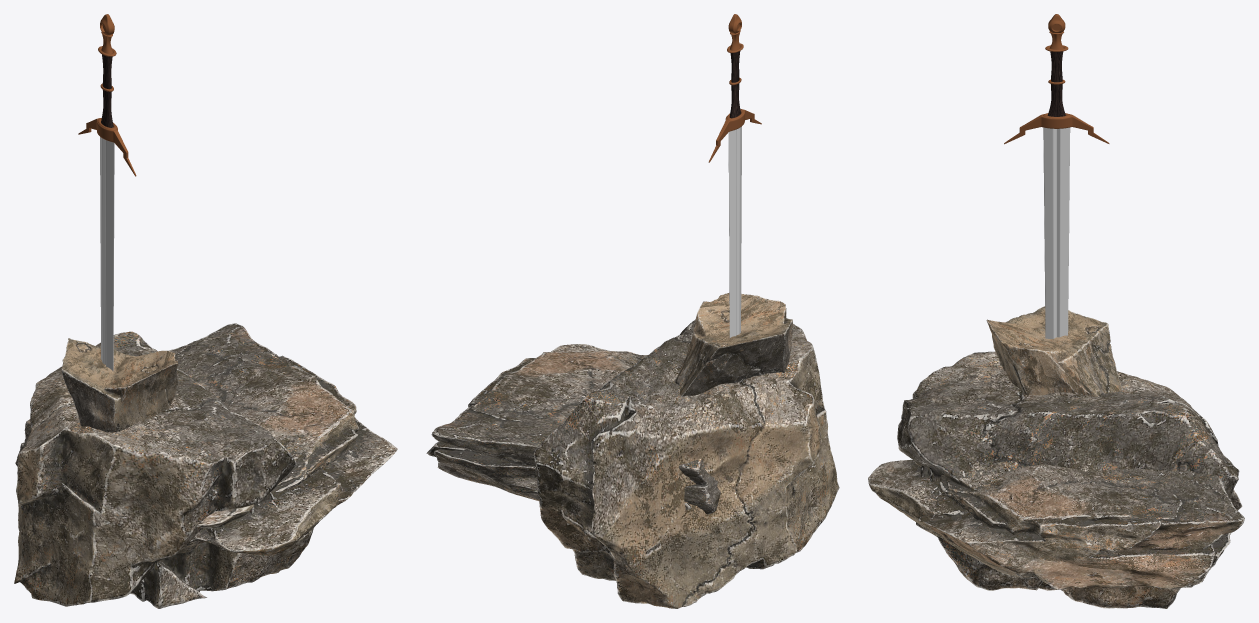
File: miekka_ilmantaustaa.glb
The picture shows the model from 3 angles, left to right: view 1: azimuth 30°, elevation 25°; view 2: azimuth 150°, elevation 25°; view 3: azimuth 270°, elevation 25°; orthographic projection. The views are drawn at different scales.
Parts seen in each view (by area): view 1: rockB, rockC, rockA, Terä, Kahva, Suoja; view 2: rockB, rockC, rockA, Terä, Kahva; view 3: rockC, rockB, rockA, Terä, Suoja, Kahva.
Boxes of the visible parts, x1,y1,x2,y2 form: rockB: (14, 331, 313, 608); rockC: (15, 323, 397, 556); rockA: (61, 338, 178, 432); Terä: (100, 137, 114, 370); Kahva: (101, 54, 113, 127); Suoja: (78, 118, 136, 176); rockB: (533, 319, 839, 608); rockC: (426, 344, 720, 514); rockA: (675, 293, 792, 396); Terä: (728, 126, 741, 337); Kahva: (729, 51, 740, 118); rockC: (868, 459, 1244, 589); rockB: (897, 351, 1242, 608); rockA: (986, 306, 1122, 396); Terä: (1043, 127, 1070, 338); Suoja: (1004, 114, 1109, 144); Kahva: (1047, 51, 1065, 116).
Size of the model in its own units: 1.44 by 2.36 by 1.46.
Materials: 8 (4 with a texture image).
